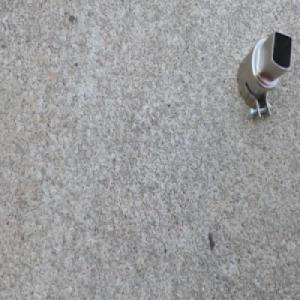MetalPart: (235, 28, 294, 126)
